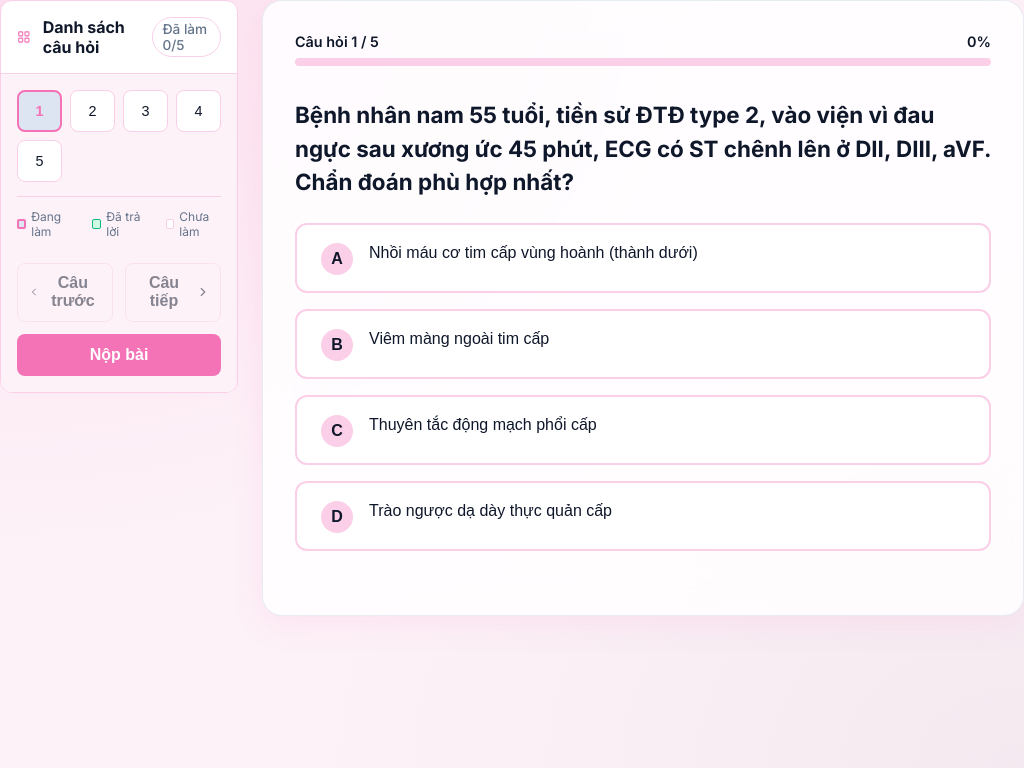
Scenario: Tier 1: QuizInterface Component › Feature 3: Active Quiz Engine & State › T1.3.3: provides instant feedback and shows explanation upon selecting an option
This screenshot has width=1024, height=768.
Click the radio button "Nhồi máu cơ tim cấp vùng hoành (thành dưới)".
click(643, 258)  # box top-left (295, 223), bottom-right (991, 293)
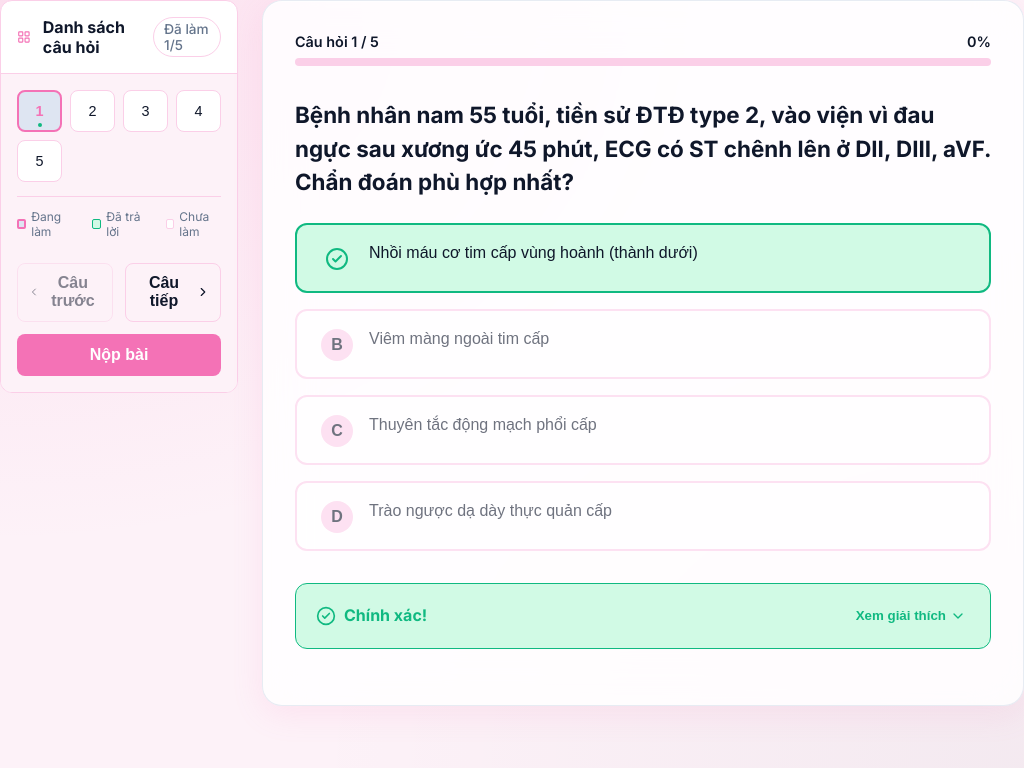
Check: the heading "Chính xác!" is shown, box top-left (316, 606), bottom-right (427, 626)
Click the button "Xem giải thích".
click(911, 616)  # box top-left (852, 604), bottom-right (970, 628)
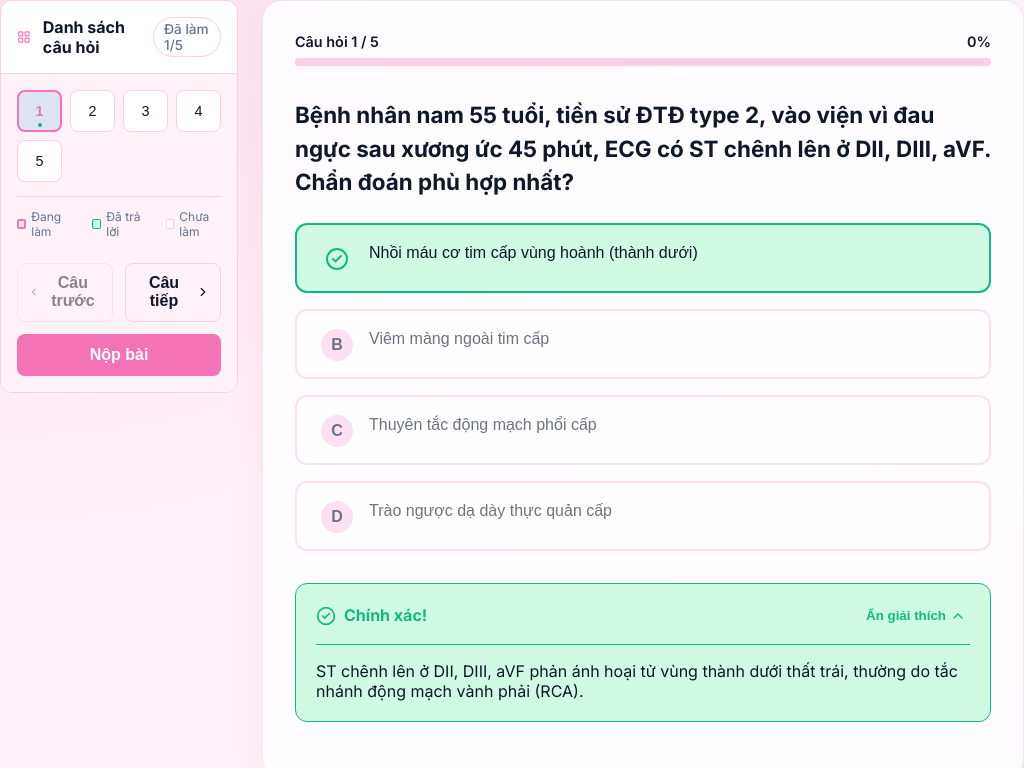
Check: the text "ST chênh lên ở DII, DIII, aVF phản ánh hoại tử vùng thành dưới thất trái, thường do tắc nhánh động mạch vành phải (RCA)." is shown, box top-left (316, 661), bottom-right (958, 701)
